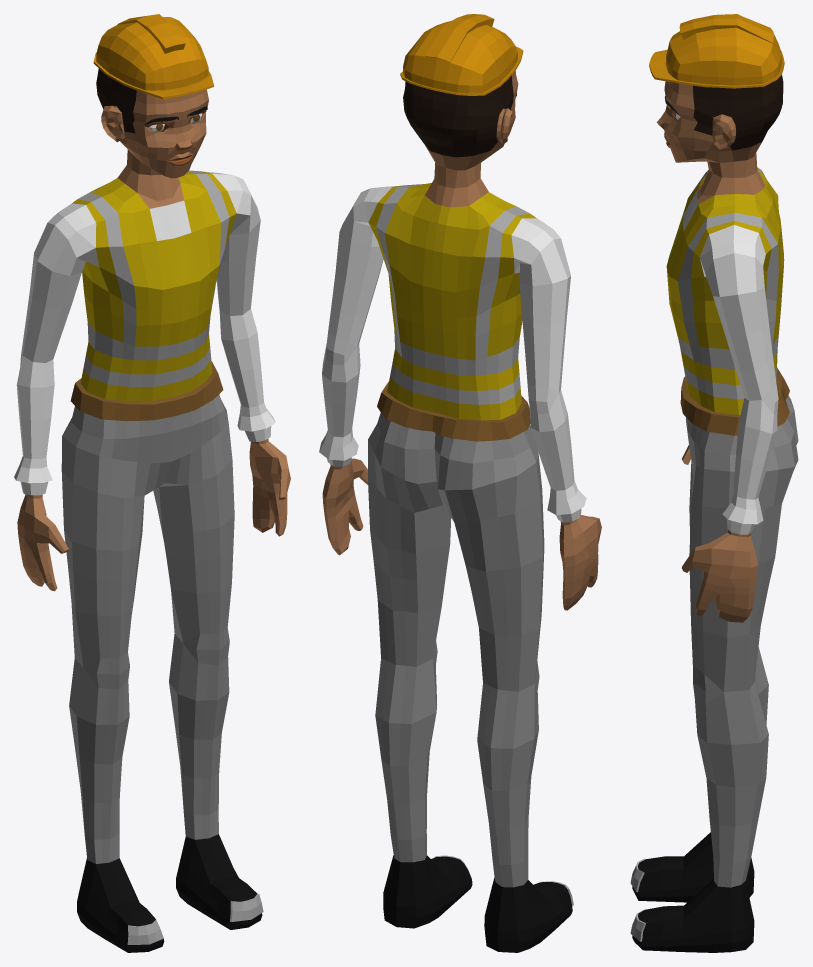
File: Engineer_Stand.fbx
The picture shows the model from 3 angles, left to right: view 1: azimuth 30°, elevation 25°; view 2: azimuth 150°, elevation 25°; view 3: azimuth 270°, elevation 25°; orthographic projection. The views are drawn at different scales.
Visible parts, largest first — view 1: Engineer_Stand; view 2: Engineer_Stand; view 3: Engineer_Stand.
Boxes of the visible parts, x1,y1,x2,y2 form: Engineer_Stand: (14, 14, 290, 952); Engineer_Stand: (319, 14, 601, 952); Engineer_Stand: (630, 14, 798, 952).
Bounding box in the file's own units: 0.3284 × 1.08 × 0.1831.
